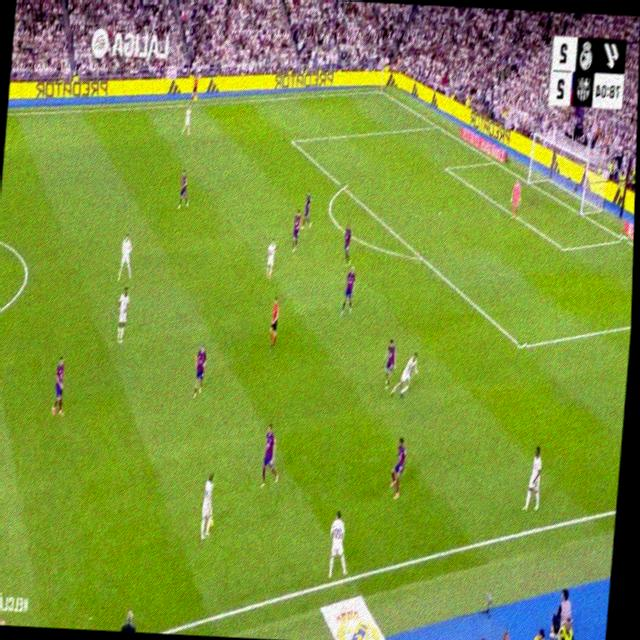bigarea_bottom_inner: (516, 335, 527, 356)
bigarea_top_inner: (290, 132, 298, 148)
bigarea_top_outter: (432, 118, 442, 131)
bottom_arc_area_intersection: (414, 246, 427, 266)
smallarea_bottom_inner: (559, 240, 569, 257)
smallarea_bottom_outter: (619, 230, 628, 246)
smallarea_top_inner: (444, 162, 450, 172)
top_arc_area_intersection: (339, 178, 348, 194)
